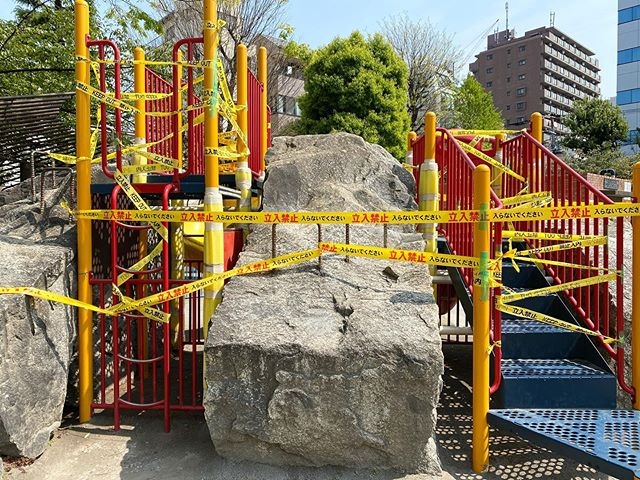building: (464, 18, 590, 144)
tree: (293, 28, 418, 154), (552, 91, 632, 157), (447, 71, 507, 135)
